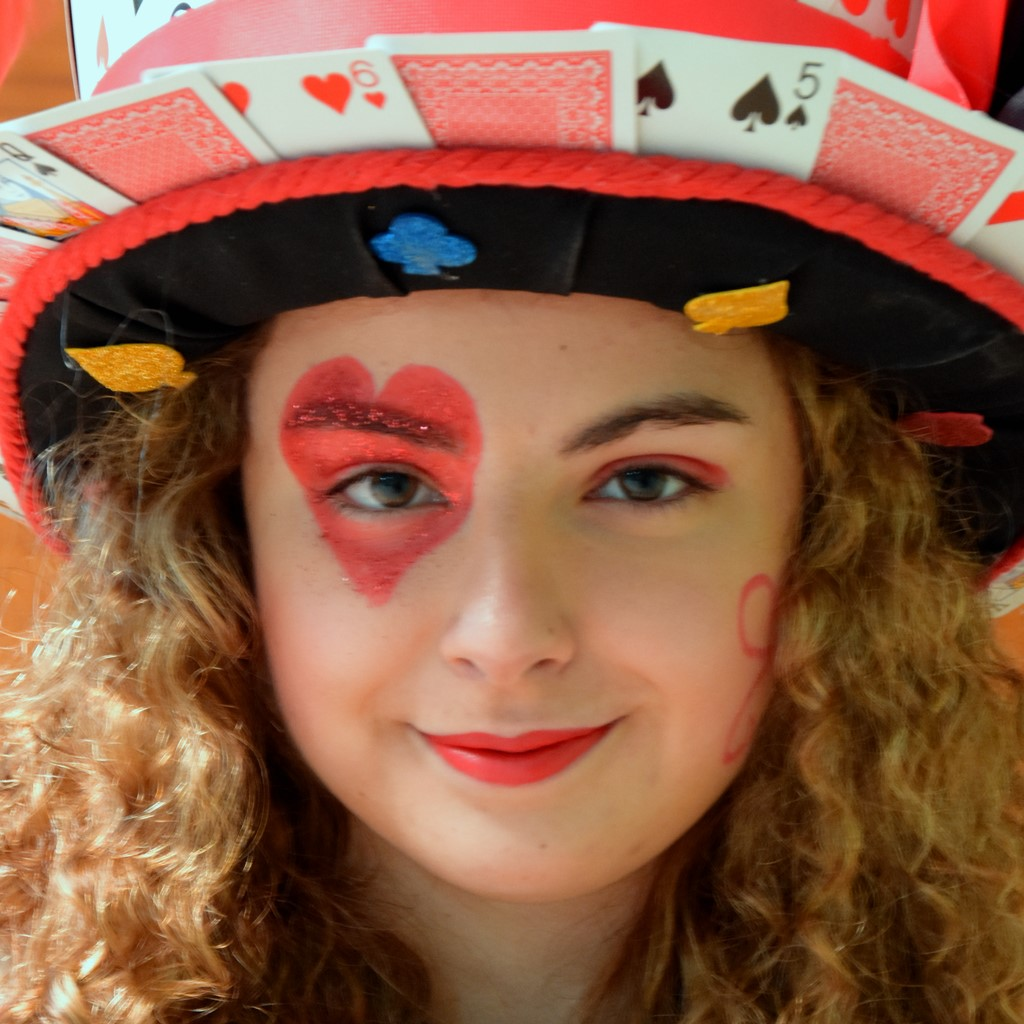sin_mascara: (238, 255, 817, 898)
